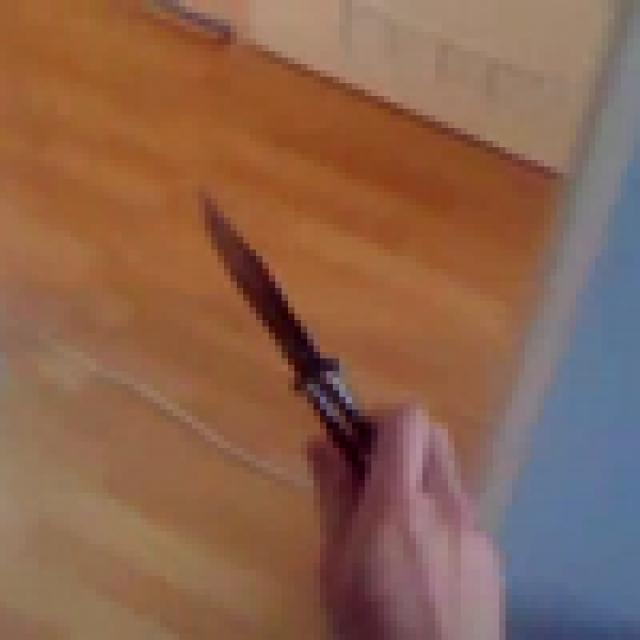knife: (160, 160, 435, 551)
